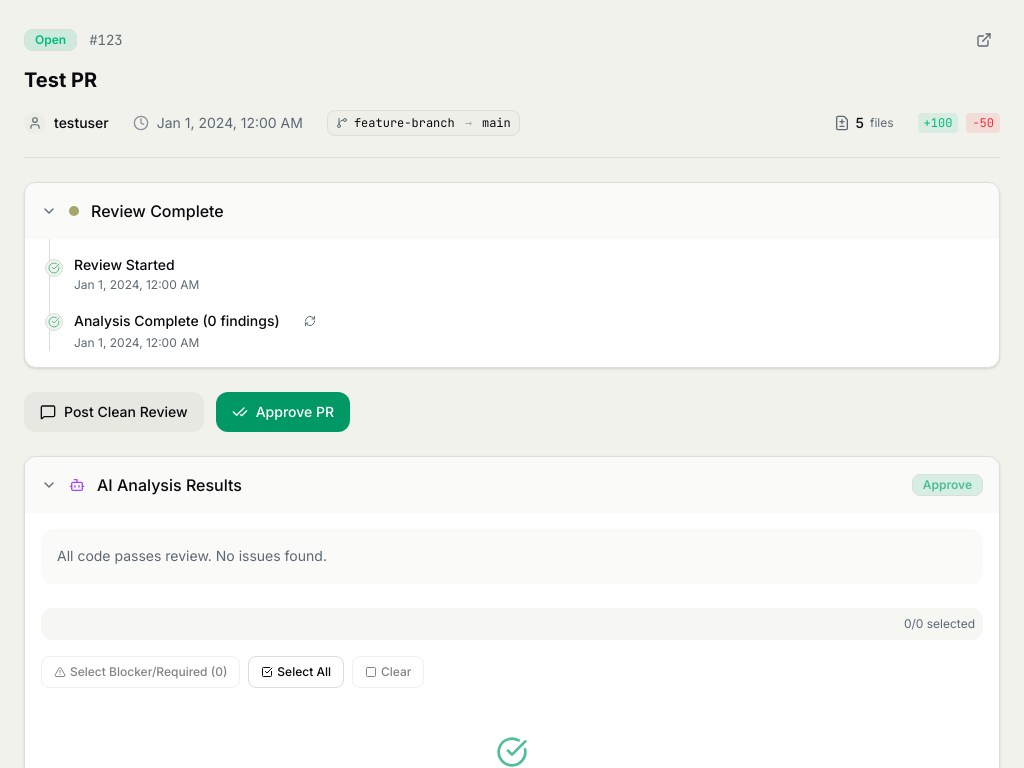
Test: PRDetail - Clean Review State Reset Integration › should show error message when posting clean review fails
Note: Click the button to attempt posting clean review
What coordinates should you click on to do the following:
click the button "Post Clean Review"
I would click on:
 (114, 412)
Its box is x1=24 y1=392 x2=204 y2=432.
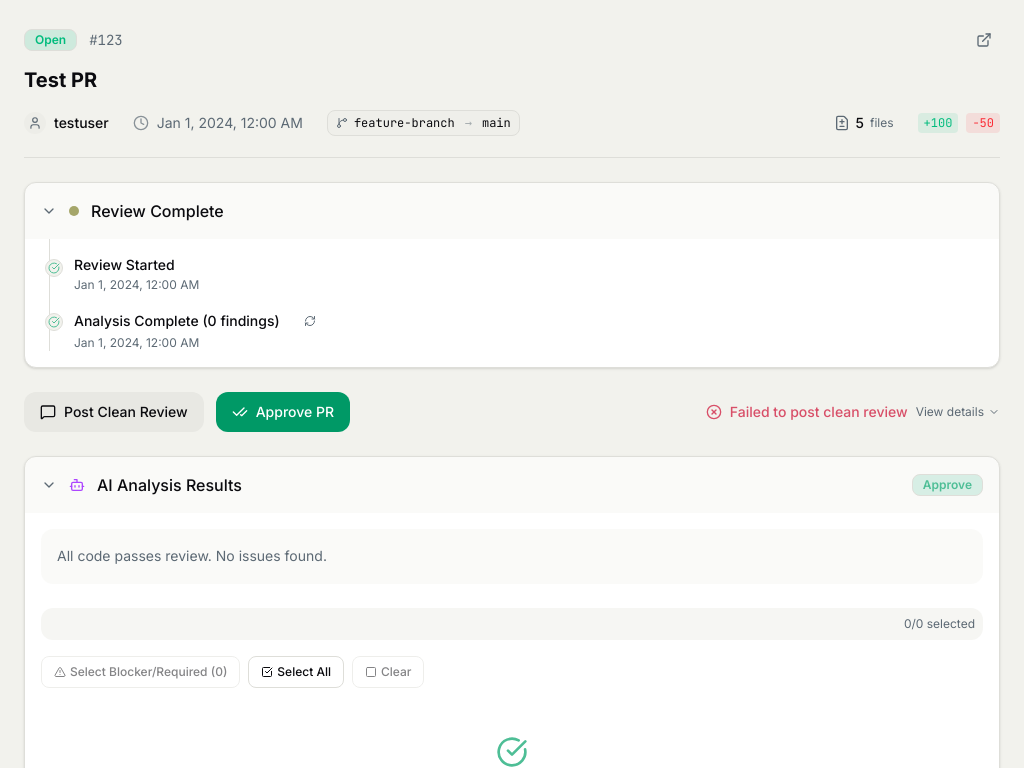
Check: the text "Failed to post clean review" is shown, box x1=706 y1=402 x2=908 y2=422
Check: the button "View details" is shown, box x1=916 y1=404 x2=1000 y2=420
